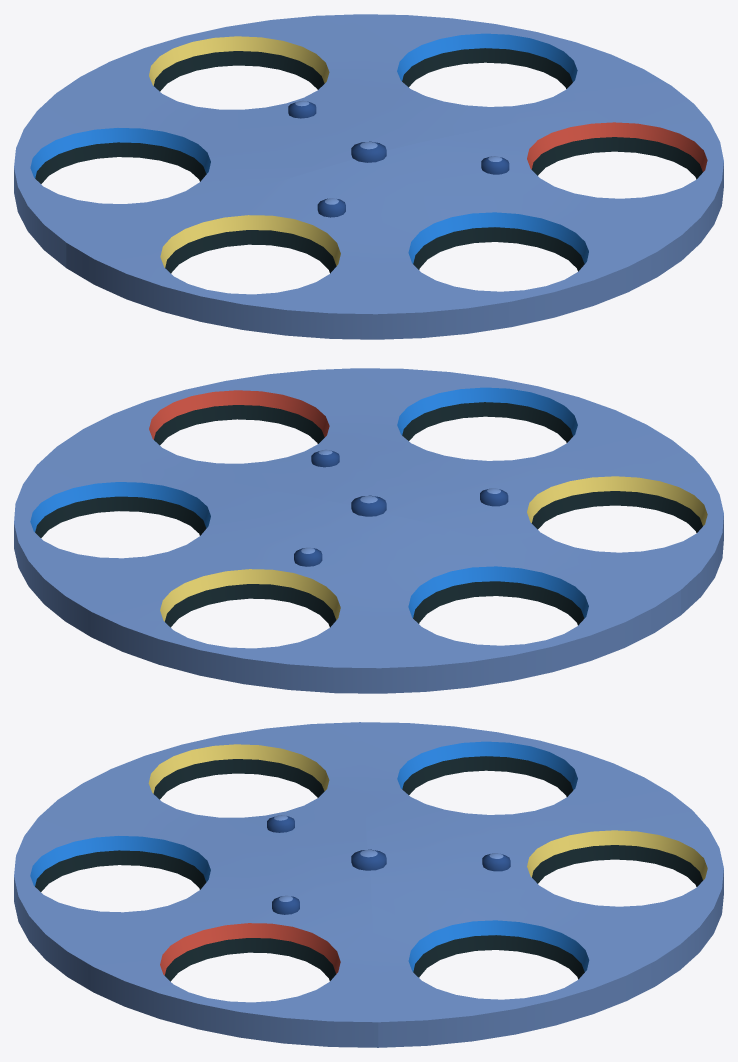
The model's file is spin.glb.
3 views of the same model, one above another, from view 1: azimuth 30°, elevation 25°; view 2: azimuth 150°, elevation 25°; view 3: azimuth 270°, elevation 25° (orthographic).
Visible parts, largest first — view 1: spin; view 2: spin; view 3: spin.
Part boxes in pixels (bbox=[...]): spin: bbox=[14, 14, 723, 339]; spin: bbox=[14, 368, 723, 693]; spin: bbox=[14, 722, 723, 1047].
Size of the model in its own units: 4.69 by 0.3318 by 4.69.
Materials: 1 (1 with a texture image).
